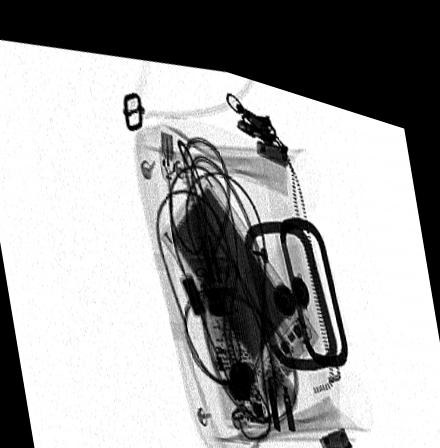Powerbank: (157, 159, 318, 383)
